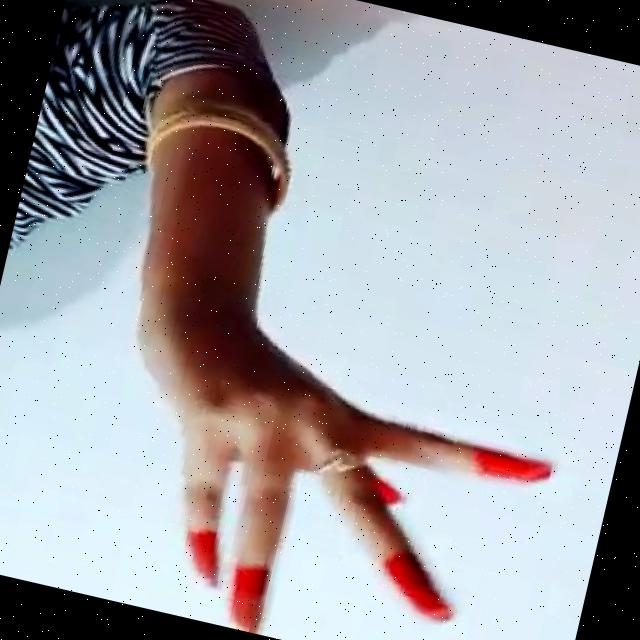Alapadma: (86, 319, 575, 640)
bangle: (112, 76, 330, 235)
